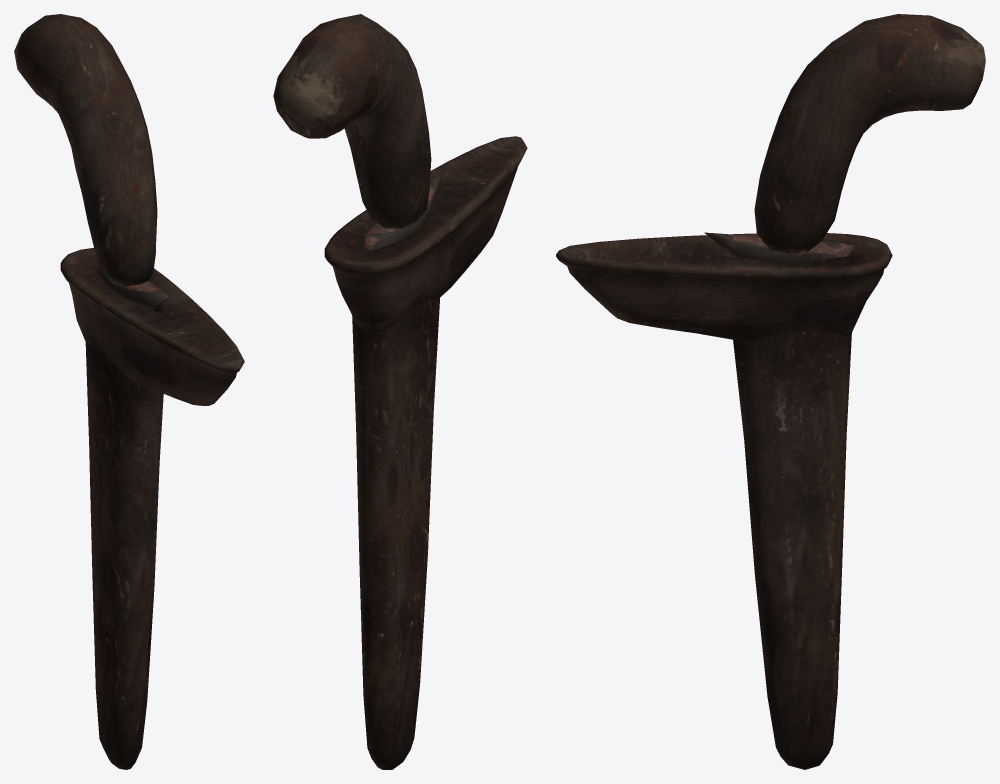
The model's file is keris.FBX.
3 views of the same model, side by side, from view 1: azimuth 30°, elevation 25°; view 2: azimuth 150°, elevation 25°; view 3: azimuth 270°, elevation 25° (orthographic). The views are drawn at different scales.
Parts seen in each view (by area): view 1: kerisOld2, kerisOld1; view 2: kerisOld2, kerisOld1; view 3: kerisOld2, kerisOld1.
Boxes of the visible parts, x1,y1,x2,y2 form: kerisOld2: [60, 248, 244, 769]; kerisOld1: [14, 14, 167, 309]; kerisOld2: [324, 136, 527, 769]; kerisOld1: [273, 14, 442, 252]; kerisOld2: [556, 233, 892, 769]; kerisOld1: [704, 14, 985, 261].
Size of the model in its own units: 4.36 by 38.87 by 20.08.
